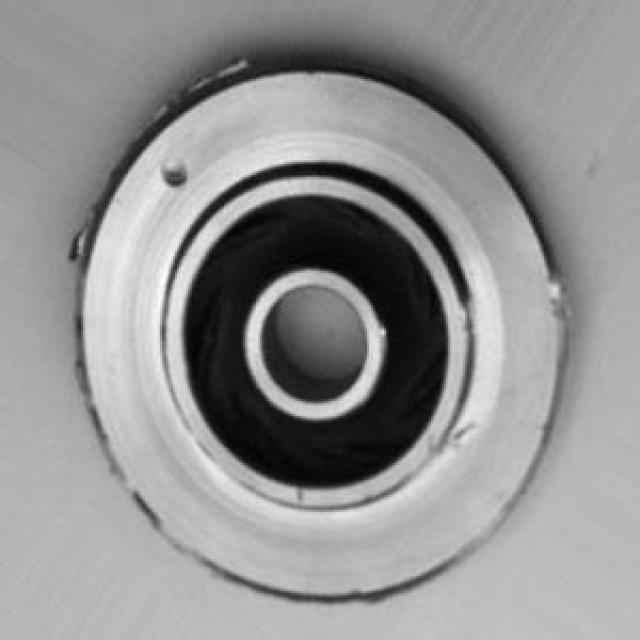Defect: (152, 147, 198, 200)
